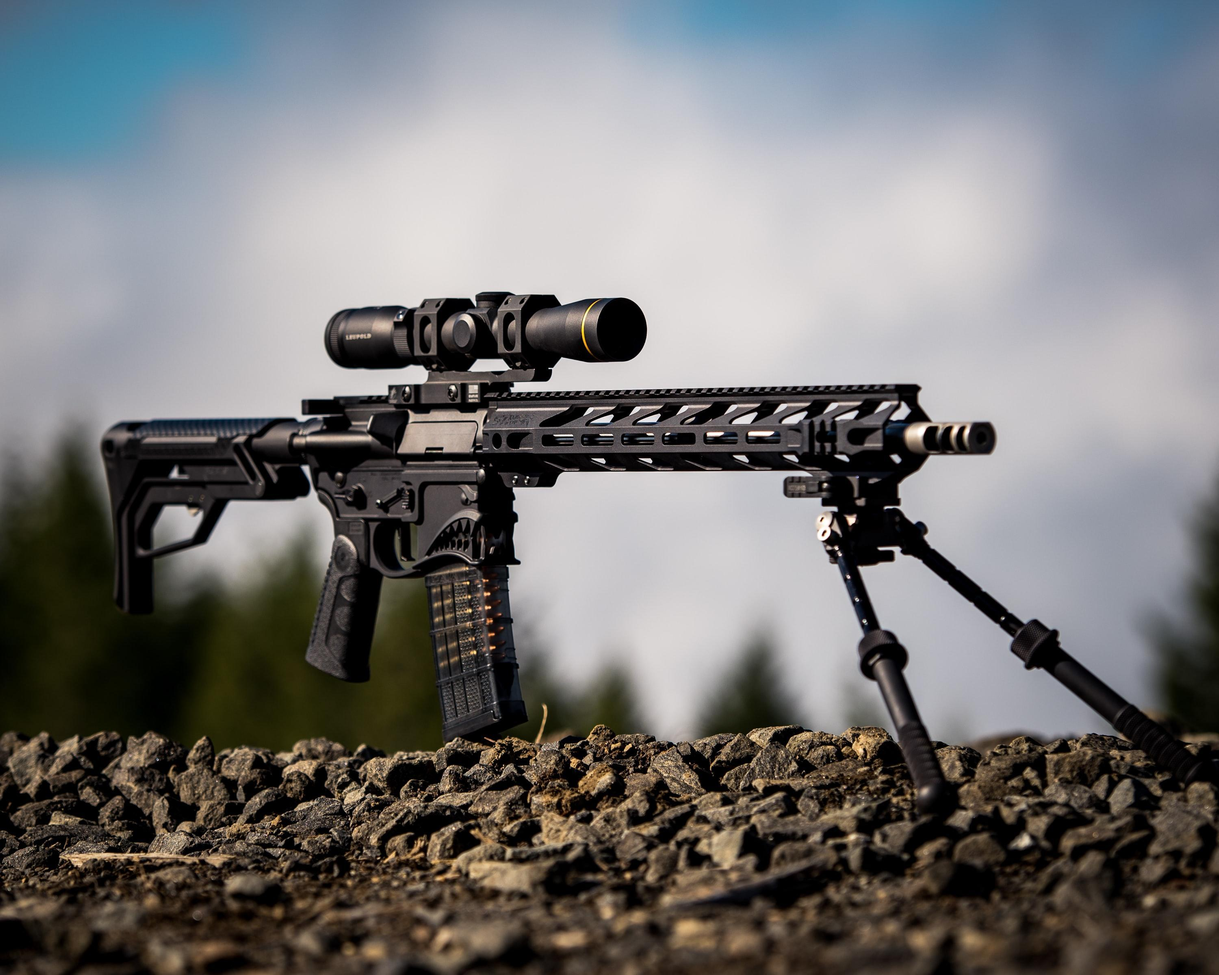larga: (99, 292, 1176, 817)
